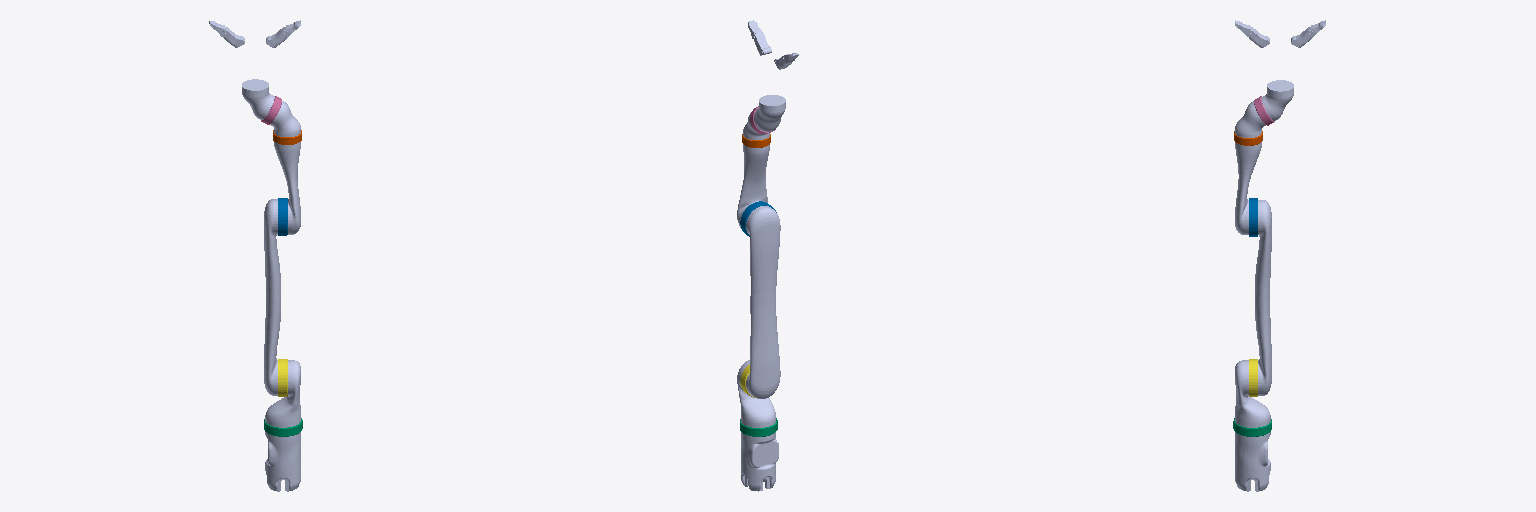
robot.urdf — j2n6s200:
<?xml version="1.0" ?>
<!-- =================================================================================== -->
<!-- |    This document was autogenerated by xacro from robots/j2n6s200_standalone.xacro | -->
<!-- |    EDITING THIS FILE BY HAND IS NOT RECOMMENDED                                 | -->
<!-- =================================================================================== -->
<!-- j2n6s200 refers to jaco v2 6DOF non-spherical 2fingers -->
<robot name="j2n6s200" xmlns:body="http://playerstage.sourceforge.net/gazebo/xmlschema/#body" xmlns:controller="http://playerstage.sourceforge.net/gazebo/xmlschema/#controller" xmlns:gazebo="http://playerstage.sourceforge.net/gazebo/xmlschema/#gz" xmlns:geom="http://playerstage.sourceforge.net/gazebo/xmlschema/#geom" xmlns:interface="http://playerstage.sourceforge.net/gazebo/xmlschema/#interface" xmlns:joint="http://playerstage.sourceforge.net/gazebo/xmlschema/#joint" xmlns:model="http://playerstage.sourceforge.net/gazebo/xmlschema/#model" xmlns:physics="http://playerstage.sourceforge.net/gazebo/xmlschema/#physics" xmlns:renderable="http://playerstage.sourceforge.net/gazebo/xmlschema/#renderable" xmlns:rendering="http://playerstage.sourceforge.net/gazebo/xmlschema/#rendering" xmlns:sensor="http://playerstage.sourceforge.net/gazebo/xmlschema/#sensor" xmlns:xi="http://www.w3.org/2001/XInclude">
  <!-- links      		mesh_no
   base           		0
   shoulder       		1
   arm            		2
   forearm        		3
   wrist          		4
   wrist_spherical_1  8
   wrist_spherical_2  9

   hand_2finger   		56
   finger_proximal		57
   finger_distal      58 
-->
  <!-- links      		mesh_no
   base           		0
   shoulder       		1
   arm            		2
   forearm        		3
   wrist          		4
   wrist_spherical_1  8
   wrist_spherical_2  9

   hand_2finger   		56
   finger_proximal		57
   finger_distal      58 
-->
  <link name="world"/>
  <!--xacro:gazebo_config robot_namespace="${prefix}"/-->
  <link name="j2n6s200_link_base">
    <visual>
      <geometry>
        <mesh filename="package://ada_description/meshes/base.dae"/>
      </geometry>
      <material name="carbon_fiber">
        <color rgba="0.792156862745098 0.819607843137255 0.933333333333333 1"/>
      </material>
    </visual>
    <collision>
      <geometry>
        <mesh filename="package://ada_description/meshes/collision_base.dae"/>
      </geometry>
    </collision>
    <inertial>
      <mass value="0.46784"/>
      <origin rpy="0 0 0" xyz="0 0 0.1255"/>
      <inertia ixx="0.000951270861568" ixy="0" ixz="0" iyy="0.000951270861568" iyz="0" izz="0.00037427200000000004"/>
    </inertial>
  </link>
  <joint name="j2n6s200_joint_base" type="fixed">
    <parent link="world"/>
    <child link="j2n6s200_link_base"/>
    <axis xyz="0 0 0"/>
    <limit effort="2000" lower="0" upper="0" velocity="1.0"/>
    <origin rpy="0 0 0" xyz="0 0 0"/>
    <dynamics damping="0.0" friction="0.0"/>
  </joint>
  <link name="j2n6s200_link_1">
    <visual>
      <geometry>
        <mesh filename="package://ada_description/meshes/shoulder.dae"/>
      </geometry>
      <material name="carbon_fiber">
        <color rgba="0.792156862745098 0.819607843137255 0.933333333333333 1"/>
      </material>
    </visual>
    <visual>
      <geometry>
        <mesh filename="package://ada_description/meshes/ring_big.dae"/>
      </geometry>
    </visual>
    <collision>
      <geometry>
        <mesh filename="package://ada_description/meshes/collision_shoulder.dae"/>
      </geometry>
    </collision>
    <inertial>
      <mass value="0.7477"/>
      <origin xyz="0 -0.002 -0.0605"/>
      <inertia ixx="0.0015203172520400004" ixy="0" ixz="0" iyy="0.0015203172520400004" iyz="0" izz="0.00059816"/>
    </inertial>
  </link>
  <joint name="j2n6s200_joint_1" type="continuous">
    <parent link="j2n6s200_link_base"/>
    <child link="j2n6s200_link_1"/>
    <axis xyz="0 0 1"/>
    <limit effort="2000" lower="-6.283185307179586" upper="6.283185307179586" velocity="1.0"/>
    <origin rpy="0 3.141592653589793 0" xyz="0 0 0.15675"/>
    <dynamics damping="0.0" friction="0.0"/>
  </joint>
  <transmission name="j2n6s200_joint_1_trans">
    <type>transmission_interface/SimpleTransmission</type>
    <joint name="j2n6s200_joint_1">
      <hardwareInterface>EffortJointInterface</hardwareInterface>
    </joint>
    <actuator name="j2n6s200_joint_1_actuator">
      <hardwareInterface>EffortJointInterface</hardwareInterface>
      <mechanicalReduction>160</mechanicalReduction>
    </actuator>
  </transmission>
  <link name="j2n6s200_link_2">
    <visual>
      <geometry>
        <mesh filename="package://ada_description/meshes/arm.dae"/>
      </geometry>
      <material name="carbon_fiber">
        <color rgba="0.792156862745098 0.819607843137255 0.933333333333333 1"/>
      </material>
    </visual>
    <visual>
      <geometry>
        <mesh filename="package://ada_description/meshes/ring_big.dae"/>
      </geometry>
    </visual>
    <collision>
      <geometry>
        <mesh filename="package://ada_description/meshes/collision_arm.dae"/>
      </geometry>
    </collision>
    <inertial>
      <mass value="0.99"/>
      <origin xyz="0 -0.2065 -0.01"/>
      <inertia ixx="0.010502207990999999" ixy="0" ixz="0" iyy="0.0007920000000000001" iyz="0" izz="0.010502207990999999"/>
    </inertial>
  </link>
  <joint name="j2n6s200_joint_2" type="revolute">
    <parent link="j2n6s200_link_1"/>
    <child link="j2n6s200_link_2"/>
    <axis xyz="0 0 1"/>
    <limit effort="2000" lower="0.8203047484373349" upper="5.462880558742252" velocity="1.0"/>
    <origin rpy="-1.5707963267948966 0 3.141592653589793" xyz="0 0.0016 -0.11875"/>
    <dynamics damping="0.0" friction="0.0"/>
  </joint>
  <transmission name="j2n6s200_joint_2_trans">
    <type>transmission_interface/SimpleTransmission</type>
    <joint name="j2n6s200_joint_2">
      <hardwareInterface>EffortJointInterface</hardwareInterface>
    </joint>
    <actuator name="j2n6s200_joint_2_actuator">
      <hardwareInterface>EffortJointInterface</hardwareInterface>
      <mechanicalReduction>160</mechanicalReduction>
    </actuator>
  </transmission>
  <link name="j2n6s200_link_3">
    <visual>
      <geometry>
        <mesh filename="package://ada_description/meshes/forearm.dae"/>
      </geometry>
      <material name="carbon_fiber">
        <color rgba="0.792156862745098 0.819607843137255 0.933333333333333 1"/>
      </material>
    </visual>
    <visual>
      <geometry>
        <mesh filename="package://ada_description/meshes/ring_big.dae"/>
      </geometry>
    </visual>
    <collision>
      <geometry>
        <mesh filename="package://ada_description/meshes/collision_forearm.dae"/>
      </geometry>
    </collision>
    <inertial>
      <mass value="0.6763"/>
      <origin xyz="0 0.081 -0.0086"/>
      <inertia ixx="0.0014202243190800001" ixy="0" ixz="0" iyy="0.000304335" iyz="0" izz="0.0014202243190800001"/>
    </inertial>
  </link>
  <joint name="j2n6s200_joint_3" type="revolute">
    <parent link="j2n6s200_link_2"/>
    <child link="j2n6s200_link_3"/>
    <axis xyz="0 0 1"/>
    <limit effort="2000" lower="0.33161255787892263" upper="5.951572749300664" velocity="1.0"/>
    <origin rpy="0 3.141592653589793 0" xyz="0 -0.410 0"/>
    <dynamics damping="0.0" friction="0.0"/>
  </joint>
  <transmission name="j2n6s200_joint_3_trans">
    <type>transmission_interface/SimpleTransmission</type>
    <joint name="j2n6s200_joint_3">
      <hardwareInterface>EffortJointInterface</hardwareInterface>
    </joint>
    <actuator name="j2n6s200_joint_3_actuator">
      <hardwareInterface>EffortJointInterface</hardwareInterface>
      <mechanicalReduction>160</mechanicalReduction>
    </actuator>
  </transmission>
  <link name="j2n6s200_link_4">
    <visual>
      <geometry>
        <mesh filename="package://ada_description/meshes/wrist.dae"/>
      </geometry>
      <material name="carbon_fiber">
        <color rgba="0.792156862745098 0.819607843137255 0.933333333333333 1"/>
      </material>
    </visual>
    <visual>
      <geometry>
        <mesh filename="package://ada_description/meshes/ring_small.dae"/>
      </geometry>
    </visual>
    <collision>
      <geometry>
        <mesh filename="package://ada_description/meshes/collision_wrist.dae"/>
      </geometry>
    </collision>
    <inertial>
      <mass value="0.1785"/>
      <origin xyz="0 -0.037 -0.0642"/>
      <inertia ixx="7.734969059999999e-05" ixy="0" ixz="0" iyy="7.734969059999999e-05" iyz="0" izz="0.0001428"/>
    </inertial>
  </link>
  <joint name="j2n6s200_joint_4" type="continuous">
    <parent link="j2n6s200_link_3"/>
    <child link="j2n6s200_link_4"/>
    <axis xyz="0 0 1"/>
    <limit effort="2000" lower="-6.283185307179586" upper="6.283185307179586" velocity="1.0"/>
    <origin rpy="-1.5707963267948966 0 3.141592653589793" xyz="0 0.2073 -0.0114"/>
    <dynamics damping="0.0" friction="0.0"/>
  </joint>
  <transmission name="j2n6s200_joint_4_trans">
    <type>transmission_interface/SimpleTransmission</type>
    <joint name="j2n6s200_joint_4">
      <hardwareInterface>EffortJointInterface</hardwareInterface>
    </joint>
    <actuator name="j2n6s200_joint_4_actuator">
      <hardwareInterface>EffortJointInterface</hardwareInterface>
      <mechanicalReduction>160</mechanicalReduction>
    </actuator>
  </transmission>
  <link name="j2n6s200_link_5">
    <visual>
      <geometry>
        <mesh filename="package://ada_description/meshes/wrist.dae"/>
      </geometry>
      <material name="carbon_fiber">
        <color rgba="0.792156862745098 0.819607843137255 0.933333333333333 1"/>
      </material>
    </visual>
    <visual>
      <geometry>
        <mesh filename="package://ada_description/meshes/ring_small.dae"/>
      </geometry>
    </visual>
    <collision>
      <geometry>
        <mesh filename="package://ada_description/meshes/collision_wrist.dae"/>
      </geometry>
    </collision>
    <inertial>
      <mass value="0.1785"/>
      <origin xyz="0 -0.037 -0.0642"/>
      <inertia ixx="7.734969059999999e-05" ixy="0" ixz="0" iyy="7.734969059999999e-05" iyz="0" izz="0.0001428"/>
    </inertial>
  </link>
  <joint name="j2n6s200_joint_5" type="continuous">
    <parent link="j2n6s200_link_4"/>
    <child link="j2n6s200_link_5"/>
    <axis xyz="0 0 1"/>
    <limit effort="2000" lower="-6.283185307179586" upper="6.283185307179586" velocity="1.0"/>
    <origin rpy="1.0471975511965976 0 3.141592653589793" xyz="0 -0.03703 -0.06414"/>
    <dynamics damping="0.0" friction="0.0"/>
  </joint>
  <transmission name="j2n6s200_joint_5_trans">
    <type>transmission_interface/SimpleTransmission</type>
    <joint name="j2n6s200_joint_5">
      <hardwareInterface>EffortJointInterface</hardwareInterface>
    </joint>
    <actuator name="j2n6s200_joint_5_actuator">
      <hardwareInterface>EffortJointInterface</hardwareInterface>
      <mechanicalReduction>160</mechanicalReduction>
    </actuator>
  </transmission>
  <link name="j2n6s200_link_6">
    <visual>
      <geometry>
        <mesh filename="package://ada_description/meshes/hand_2finger.dae"/>
      </geometry>
      <material name="carbon_fiber">
        <color rgba="0.792156862745098 0.819607843137255 0.933333333333333 1"/>
      </material>
    </visual>
    <collision>
      <geometry>
        <mesh filename="package://ada_description/meshes/collision_hand_2finger.dae"/>
      </geometry>
    </collision>
    <inertial>
      <mass value="0.78"/>
      <origin xyz="0 0 -0.06"/>
      <inertia ixx="0.00037049851799999997" ixy="0" ixz="0" iyy="0.00037049851799999997" iyz="0" izz="0.0006240000000000001"/>
    </inertial>
  </link>
  <joint name="j2n6s200_joint_6" type="continuous">
    <parent link="j2n6s200_link_5"/>
    <child link="j2n6s200_link_6"/>
    <axis xyz="0 0 1"/>
    <limit effort="2000" lower="-6.283185307179586" upper="6.283185307179586" velocity="1.0"/>
    <origin rpy="1.0471975511965976 0 3.141592653589793" xyz="0 -0.03703 -0.06414"/>
    <dynamics damping="0.0" friction="0.0"/>
  </joint>
  <transmission name="j2n6s200_joint_6_trans">
    <type>transmission_interface/SimpleTransmission</type>
    <joint name="j2n6s200_joint_6">
      <hardwareInterface>EffortJointInterface</hardwareInterface>
    </joint>
    <actuator name="j2n6s200_joint_6_actuator">
      <hardwareInterface>EffortJointInterface</hardwareInterface>
      <mechanicalReduction>160</mechanicalReduction>
    </actuator>
  </transmission>
  <link name="j2n6s200_end_effector">
  </link>
  <joint name="j2n6s200_joint_end_effector" type="fixed">
    <parent link="j2n6s200_link_6"/>
    <child link="j2n6s200_end_effector"/>
    <axis xyz="0 0 0"/>
    <limit effort="2000" lower="0" upper="0" velocity="1"/>
    <origin rpy="3.141592653589793 0 0" xyz="0 0 -0.1600"/>
  </joint>
  <link name="j2n6s200_hand_tip">
  </link>
  <joint name="j2n6s200_joint_hand_tip" type="fixed">
    <parent link="j2n6s200_end_effector"/>
    <child link="j2n6s200_hand_tip"/>
    <axis xyz="0 0 0"/>
    <limit effort="2000" lower="0" upper="0" velocity="1"/>
    <origin rpy="0 0 0" xyz="0 0 0.0370"/>
  </joint>
  <link name="j2n6s200_hand_base">
  </link>
  <joint name="j2n6s200_joint_hand_base" type="fixed">
    <parent link="j2n6s200_link_6"/>
    <child link="j2n6s200_hand_base"/>
    <axis xyz="0 0 0"/>
    <limit effort="2000" lower="0" upper="0" velocity="1"/>
    <origin rpy="0 0 0" xyz="0 0 0"/>
  </joint>
  <link name="j2n6s200_link_finger_1">
    <visual>
      <geometry>
        <mesh filename="package://ada_description/meshes/finger_proximal.dae"/>
      </geometry>
      <material name="carbon_fiber">
        <color rgba="0.792156862745098 0.819607843137255 0.933333333333333 1"/>
      </material>
    </visual>
    <collision>
      <geometry>
        <mesh filename="package://ada_description/meshes/collision_finger_proximal.dae"/>
      </geometry>
    </collision>
    <inertial>
      <mass value="0.01"/>
      <origin xyz="0.022 0 0"/>
      <inertia ixx="7.8999684e-07" ixy="0" ixz="0" iyy="7.8999684e-07" iyz="0" izz="8e-08"/>
    </inertial>
  </link>
  <joint name="j2n6s200_joint_finger_1" type="revolute">
    <parent link="j2n6s200_hand_base"/>
    <child link="j2n6s200_link_finger_1"/>
    <axis xyz="0 0 1"/>
    <origin rpy="-1.570796327 .649262481663582 1.57079632679490" xyz="-0.0025 0.03095 -0.11482"/>
    <limit effort="2000" lower="0" upper="2" velocity="1"/>
  </joint>
  <transmission name="j2n6s200_joint_finger_1_trans">
    <type>transmission_interface/SimpleTransmission</type>
    <joint name="j2n6s200_joint_finger_1">
      <hardwareInterface>EffortJointInterface</hardwareInterface>
    </joint>
    <actuator name="j2n6s200_joint_finger_1_actuator">
      <hardwareInterface>EffortJointInterface</hardwareInterface>
      <mechanicalReduction>1</mechanicalReduction>
    </actuator>
  </transmission>
  <link name="j2n6s200_link_finger_tip_1">
    <visual>
      <geometry>
        <mesh filename="package://ada_description/meshes/finger_distal.dae"/>
      </geometry>
      <material name="carbon_fiber">
        <color rgba="0.792156862745098 0.819607843137255 0.933333333333333 1"/>
      </material>
    </visual>
    <collision>
      <geometry>
        <mesh filename="package://ada_description/meshes/collision_finger_distal.dae"/>
      </geometry>
    </collision>
    <inertial>
      <mass value="0.01"/>
      <origin xyz="0.022 0 0"/>
      <inertia ixx="7.8999684e-07" ixy="0" ixz="0" iyy="7.8999684e-07" iyz="0" izz="8e-08"/>
    </inertial>
  </link>
  <joint name="j2n6s200_joint_finger_tip_1" type="fixed">
    <parent link="j2n6s200_link_finger_1"/>
    <child link="j2n6s200_link_finger_tip_1"/>
    <axis xyz="0 0 1"/>
    <origin rpy="0 0 0" xyz="0.044 -0.003 0"/>
    <limit effort="0" lower="0" upper="2" velocity="1"/>
  </joint>
  <link name="j2n6s200_link_finger_2">
    <visual>
      <geometry>
        <mesh filename="package://ada_description/meshes/finger_proximal.dae"/>
      </geometry>
      <material name="carbon_fiber">
        <color rgba="0.792156862745098 0.819607843137255 0.933333333333333 1"/>
      </material>
    </visual>
    <collision>
      <geometry>
        <mesh filename="package://ada_description/meshes/collision_finger_proximal.dae"/>
      </geometry>
    </collision>
    <inertial>
      <mass value="0.01"/>
      <origin xyz="0.022 0 0"/>
      <inertia ixx="7.8999684e-07" ixy="0" ixz="0" iyy="7.8999684e-07" iyz="0" izz="8e-08"/>
    </inertial>
  </link>
  <joint name="j2n6s200_joint_finger_2" type="revolute">
    <parent link="j2n6s200_hand_base"/>
    <child link="j2n6s200_link_finger_2"/>
    <axis xyz="0 0 1"/>
    <origin rpy="-1.570796327 .649262481663582 -1.57079632679490" xyz="-0.0025 -0.03095 -0.11482"/>
    <limit effort="2000" lower="0" upper="2" velocity="1"/>
  </joint>
  <transmission name="j2n6s200_joint_finger_2_trans">
    <type>transmission_interface/SimpleTransmission</type>
    <joint name="j2n6s200_joint_finger_2">
      <hardwareInterface>EffortJointInterface</hardwareInterface>
    </joint>
    <actuator name="j2n6s200_joint_finger_2_actuator">
      <hardwareInterface>EffortJointInterface</hardwareInterface>
      <mechanicalReduction>1</mechanicalReduction>
    </actuator>
  </transmission>
  <link name="j2n6s200_link_finger_tip_2">
    <visual>
      <geometry>
        <mesh filename="package://ada_description/meshes/finger_distal.dae"/>
      </geometry>
      <material name="carbon_fiber">
        <color rgba="0.792156862745098 0.819607843137255 0.933333333333333 1"/>
      </material>
    </visual>
    <collision>
      <geometry>
        <mesh filename="package://ada_description/meshes/collision_finger_distal.dae"/>
      </geometry>
    </collision>
    <inertial>
      <mass value="0.01"/>
      <origin xyz="0.022 0 0"/>
      <inertia ixx="7.8999684e-07" ixy="0" ixz="0" iyy="7.8999684e-07" iyz="0" izz="8e-08"/>
    </inertial>
  </link>
  <joint name="j2n6s200_joint_finger_tip_2" type="fixed">
    <parent link="j2n6s200_link_finger_2"/>
    <child link="j2n6s200_link_finger_tip_2"/>
    <axis xyz="0 0 1"/>
    <origin rpy="0 0 0" xyz="0.044 -0.003 0"/>
    <limit effort="0" lower="0" upper="2" velocity="1"/>
  </joint>
  <!--xacro:j2n6s200  base_parent="${robot_root}" /-->
</robot>

--- Render facts (derived) ---
3 views of the same robot in one strip: view 1: azimuth 90°, elevation 25°; view 2: azimuth 210°, elevation 25°; view 3: azimuth 270°, elevation 25° (orthographic).
Robot: j2n6s200 — 15 links, 14 joints (4 revolute, 4 continuous, 6 fixed); root link world; default pose: joints at zero except 2 at the middle of their limits (j2n6s200_joint_2 = 3.14, j2n6s200_joint_3 = 3.14).
Visible links, largest first — view 1: j2n6s200_link_2, j2n6s200_link_base, j2n6s200_link_1, j2n6s200_link_3, j2n6s200_link_5, j2n6s200_link_4; view 2: j2n6s200_link_2, j2n6s200_link_base, j2n6s200_link_3, j2n6s200_link_1, j2n6s200_link_5; view 3: j2n6s200_link_2, j2n6s200_link_base, j2n6s200_link_1, j2n6s200_link_3, j2n6s200_link_5, j2n6s200_link_4.
Boxes of the visible links, <box> form: j2n6s200_link_2: <box>264,199,287,396</box>; j2n6s200_link_base: <box>265,432,300,491</box>; j2n6s200_link_1: <box>264,360,302,436</box>; j2n6s200_link_3: <box>274,142,300,235</box>; j2n6s200_link_5: <box>242,79,281,124</box>; j2n6s200_link_4: <box>270,101,301,144</box>; j2n6s200_link_2: <box>740,206,780,398</box>; j2n6s200_link_base: <box>741,432,778,491</box>; j2n6s200_link_3: <box>737,144,776,236</box>; j2n6s200_link_1: <box>737,360,777,436</box>; j2n6s200_link_5: <box>750,95,785,133</box>; j2n6s200_link_2: <box>1249,200,1271,396</box>; j2n6s200_link_base: <box>1235,432,1270,491</box>; j2n6s200_link_1: <box>1233,360,1271,436</box>; j2n6s200_link_3: <box>1235,142,1261,236</box>; j2n6s200_link_5: <box>1254,80,1293,125</box>; j2n6s200_link_4: <box>1234,101,1265,145</box>.
Bounding box of the posed robot: 0.0889 × 0.215 × 1.18 m (x, y, z).
15 mesh visuals loaded from 10 distinct referenced files (9 Collada DAE); not drawn: 1 (reference not matched to a file when rendering).
